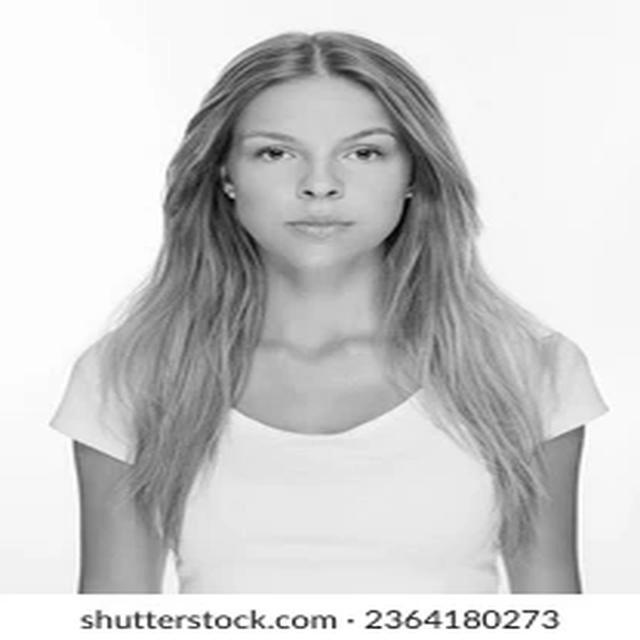Neutral: (230, 81, 410, 268)
